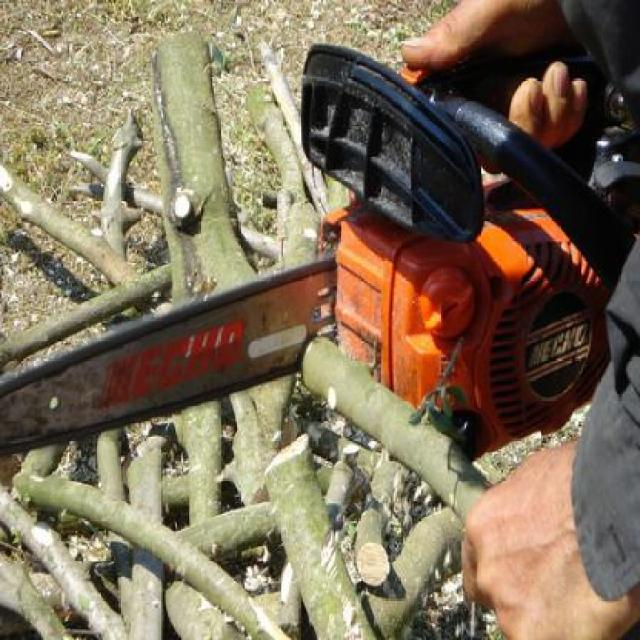Chainsaw: (0, 43, 638, 466)
